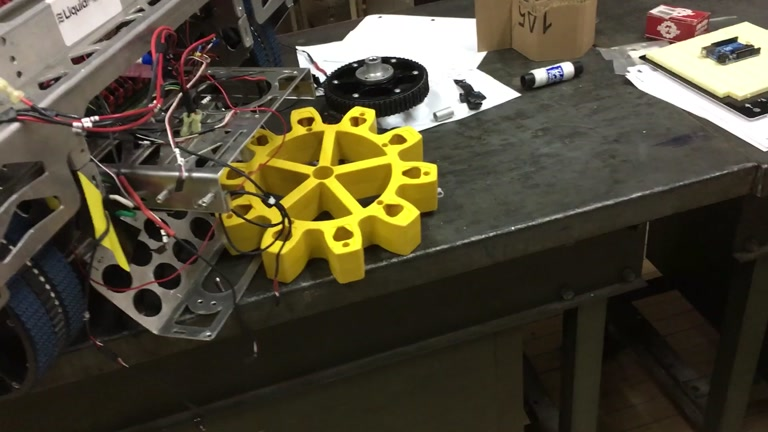gear: (215, 106, 437, 283)
